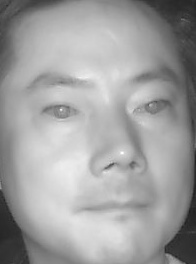eye: (38, 98, 83, 125), (130, 98, 172, 122)
mouth: (77, 188, 152, 230)
